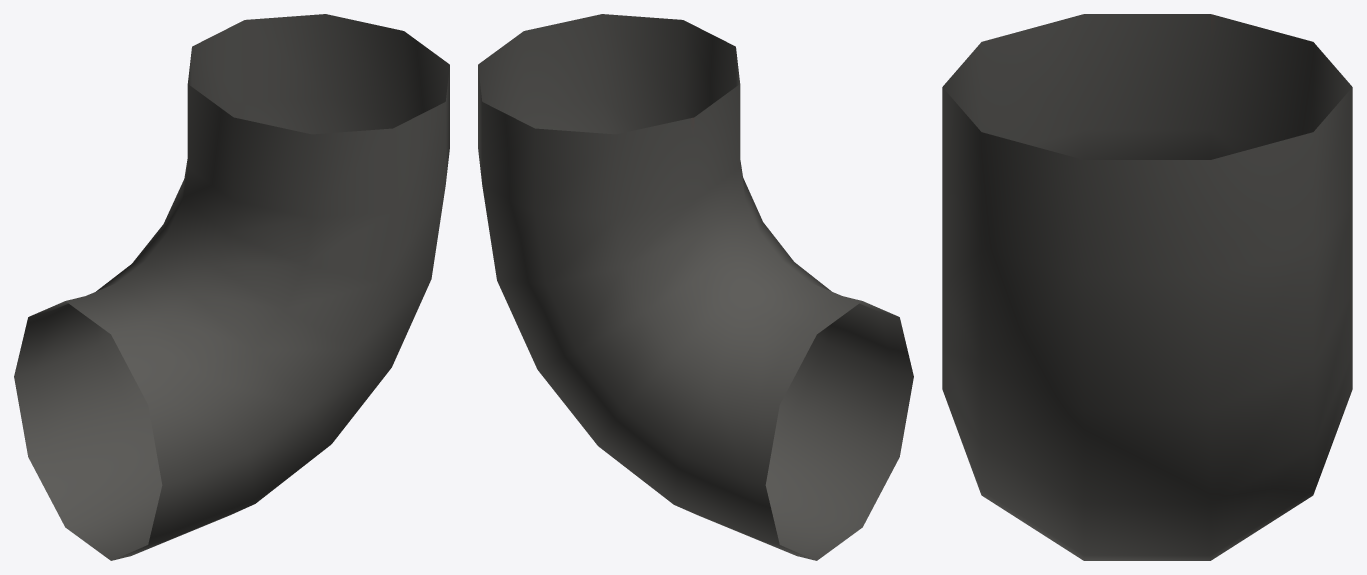
Rendered from SM_PipeBend.fbx.
3 renders of one model, left to right at view 1: azimuth 30°, elevation 25°; view 2: azimuth 150°, elevation 25°; view 3: azimuth 270°, elevation 25°, orthographic. The views are drawn at different scales.
Parts seen in each view (by area): view 1: PipeBend; view 2: PipeBend; view 3: PipeBend.
Part boxes in pixels (box(x1,y1,x2,y2)): PipeBend: box(14, 14, 449, 560); PipeBend: box(478, 14, 913, 560); PipeBend: box(942, 14, 1352, 560).
Bounding box in the file's own units: 35.41 × 41.3 × 26.84.
